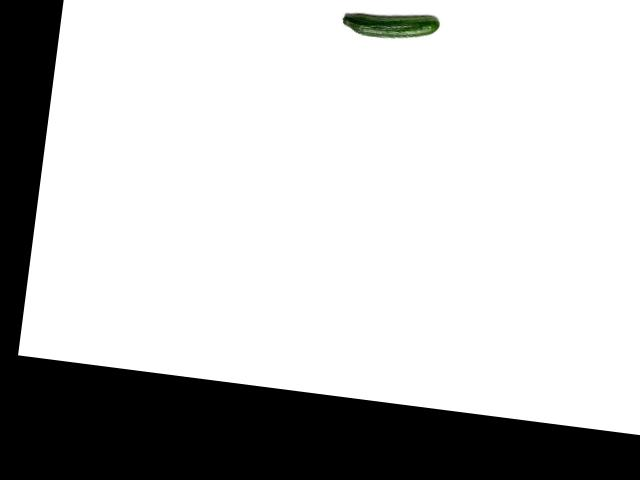cucumber: (341, 5, 441, 44)
